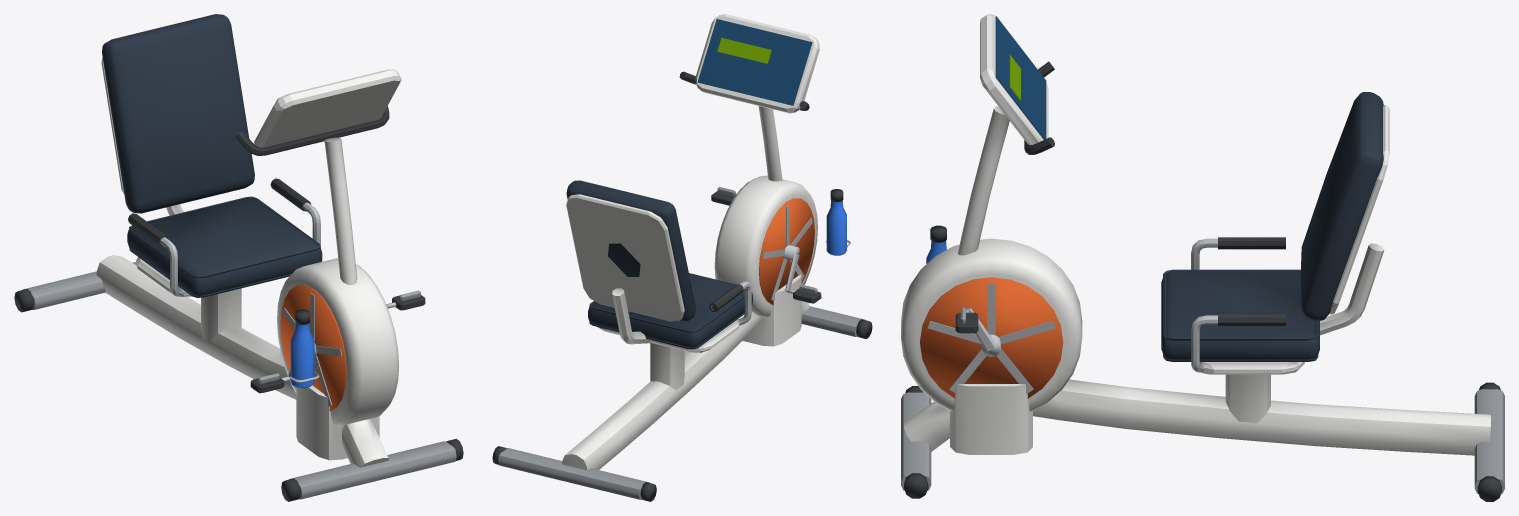
File: spinBike.glb
3 views of the same model, side by side, from view 1: azimuth 30°, elevation 25°; view 2: azimuth 150°, elevation 25°; view 3: azimuth 270°, elevation 25° (orthographic). The views are drawn at different scales.
Visible parts, largest first — view 1: body, cranks; view 2: body, cranks; view 3: body, cranks.
Part boxes in pixels (x1,y1,x2,y2): body: (14,14,463,501); cranks: (250,290,425,393); body: (492,14,872,501); cranks: (711,187,821,303); body: (901,14,1504,501); cranks: (955,307,1000,356).
Size of the model in its own units: 0.617 by 1.21 by 1.6.
